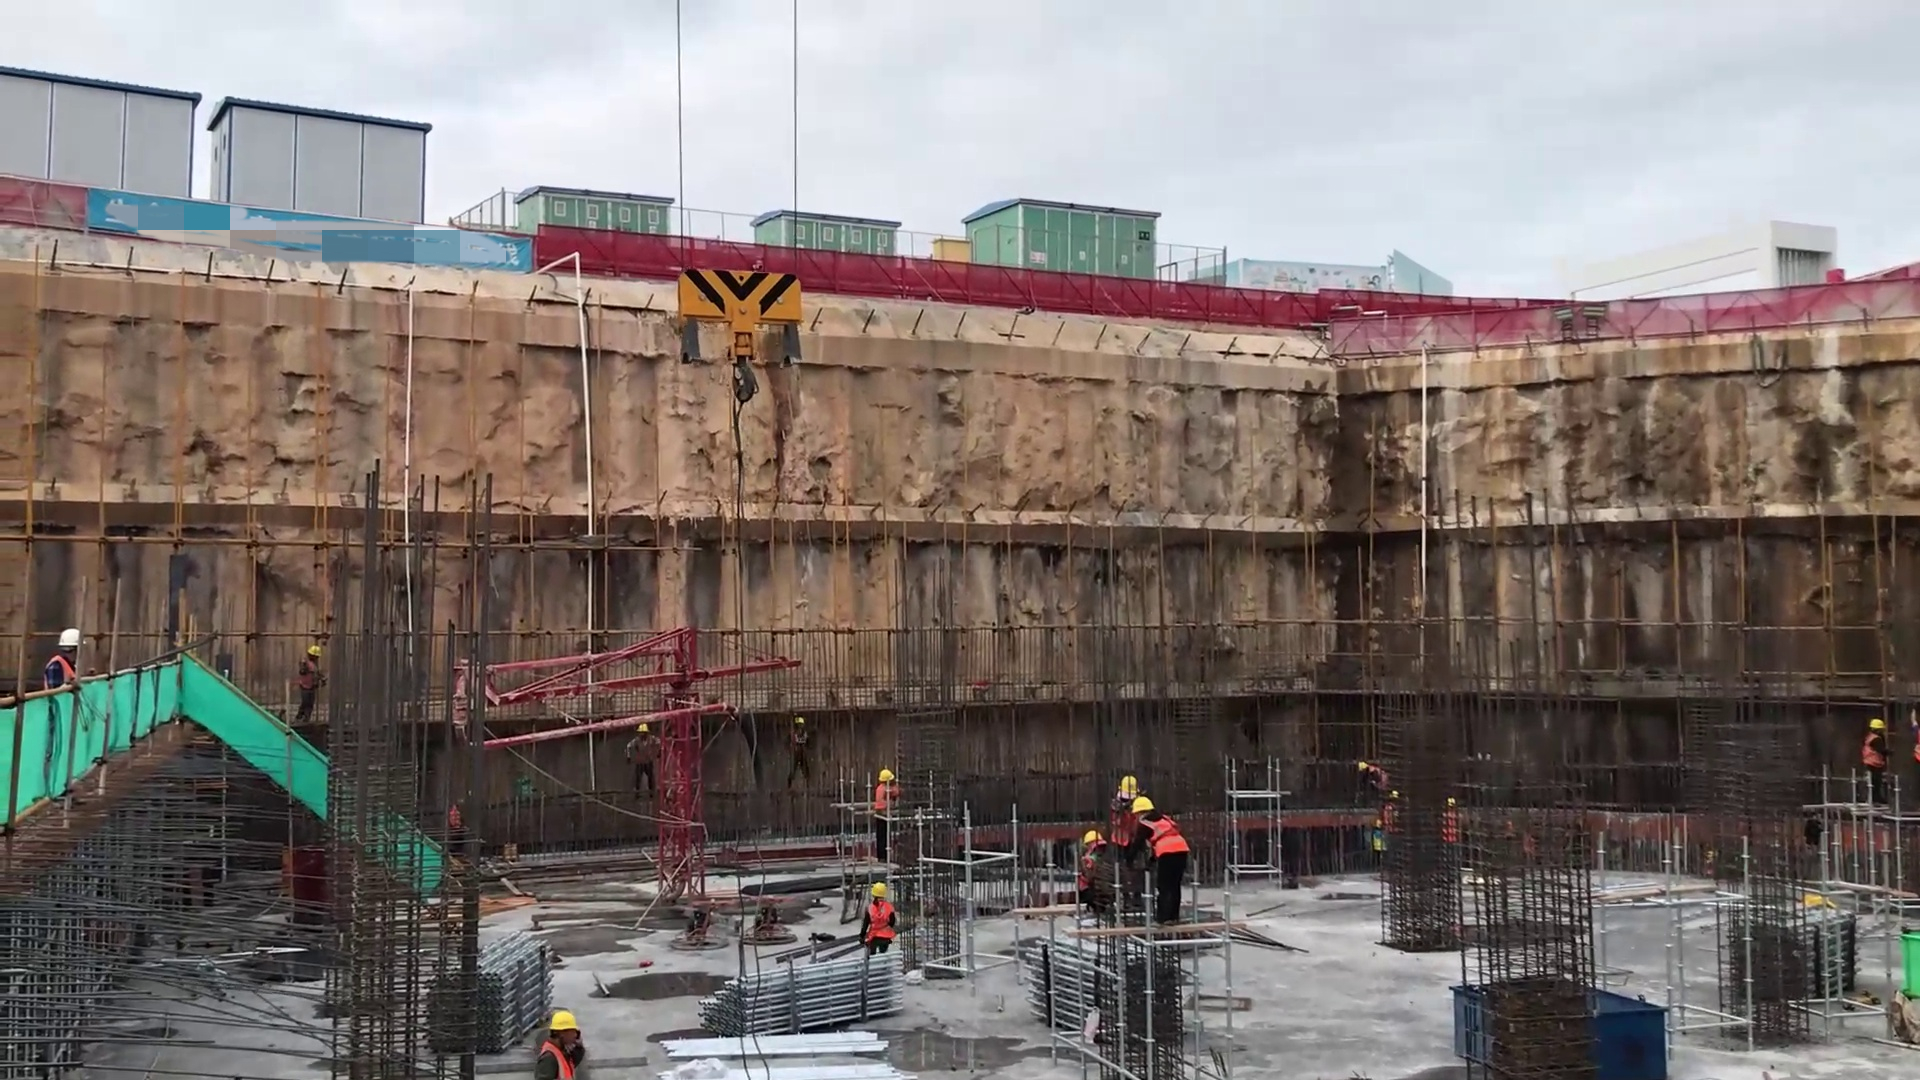helmet: (547, 1001, 606, 1024), (1119, 773, 1159, 808), (63, 619, 100, 654), (865, 869, 904, 899), (1865, 699, 1892, 737), (305, 643, 327, 662)
person: (1358, 749, 1473, 865), (1127, 792, 1193, 922), (1847, 696, 1902, 801), (854, 873, 908, 954), (865, 766, 904, 854)
vest: (521, 1045, 578, 1080), (865, 896, 900, 946), (1143, 808, 1182, 850), (40, 647, 78, 683), (874, 774, 897, 812)
